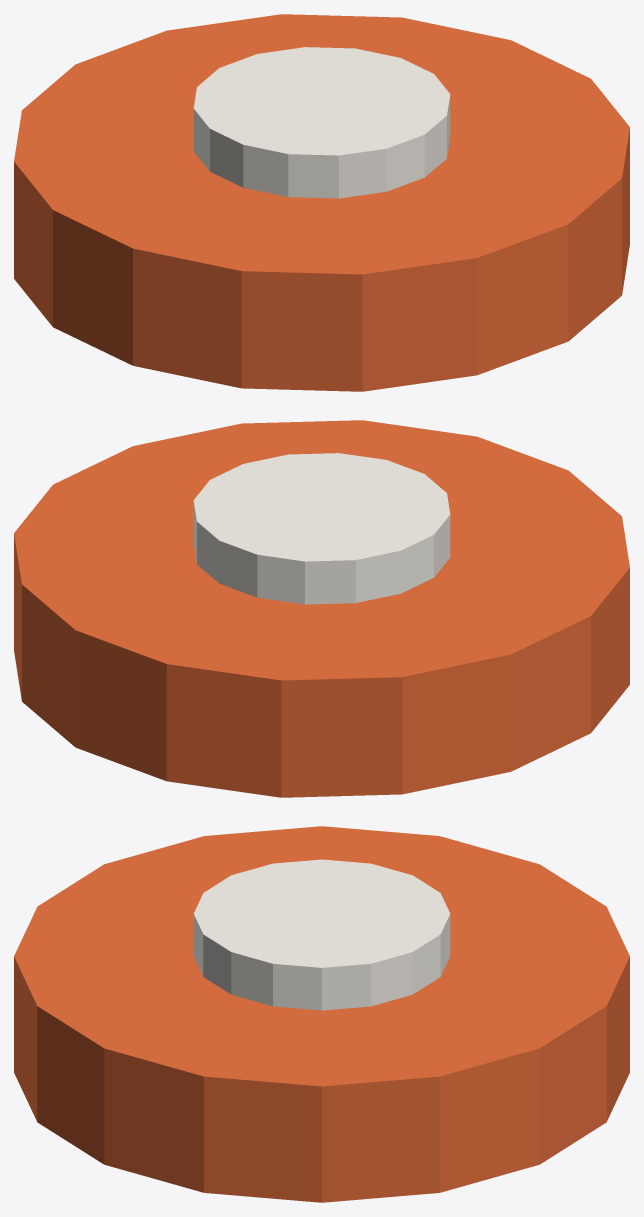
File: disc.glb
The picture shows the model from 3 angles, top to bottom: view 1: azimuth 30°, elevation 25°; view 2: azimuth 150°, elevation 25°; view 3: azimuth 270°, elevation 25°; orthographic projection.
Visible parts, largest first — view 1: disc, hub; view 2: disc, hub; view 3: disc, hub.
Part boxes in pixels (x1=…): disc: x1=14, y1=14, x2=629, y2=391; hub: x1=193, y1=47, x2=450, y2=198; disc: x1=14, y1=420, x2=629, y2=797; hub: x1=193, y1=453, x2=450, y2=604; disc: x1=14, y1=826, x2=629, y2=1202; hub: x1=193, y1=859, x2=450, y2=1010.
Size of the model in its own units: 0.72 by 0.205 by 0.72.
